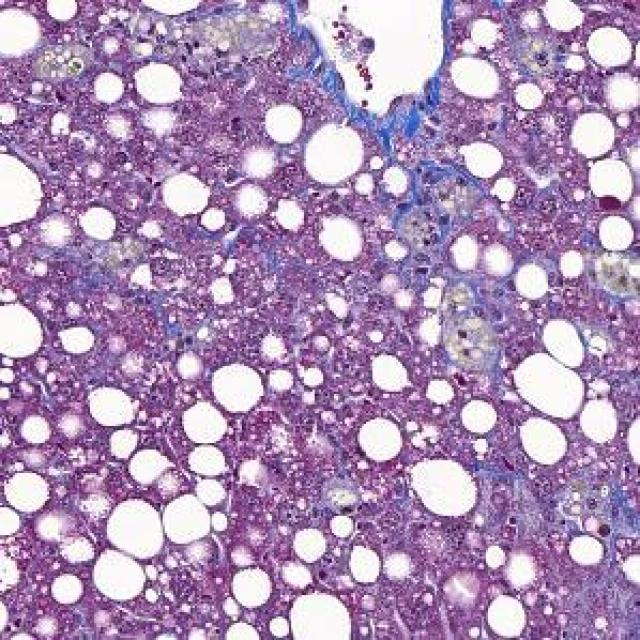fibrosis: (368, 111, 490, 229)
